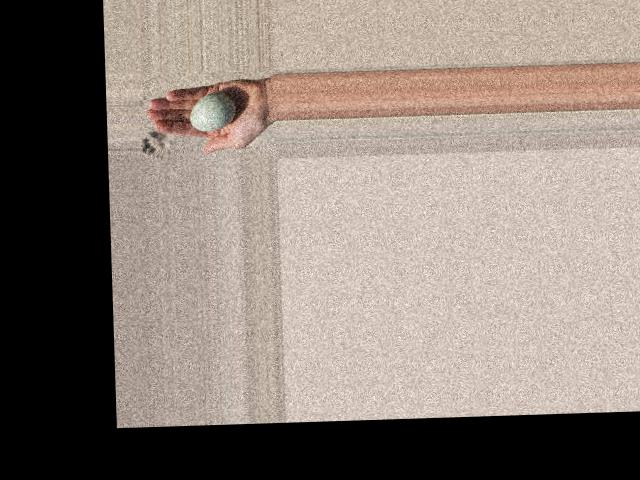egg: (189, 91, 235, 130)
